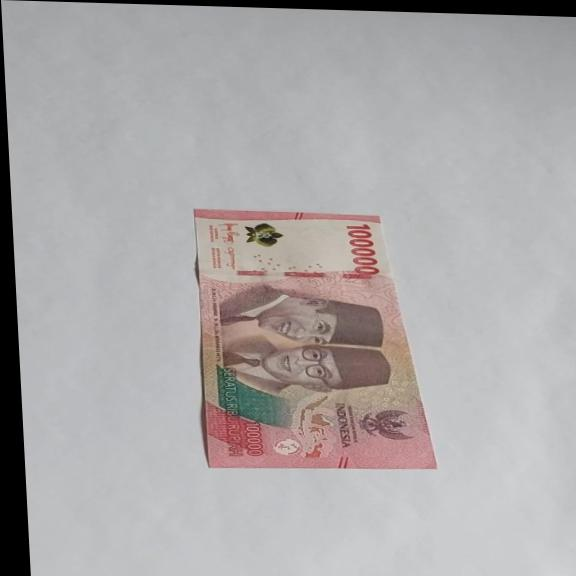Kertas: (190, 208, 439, 475), (345, 222, 381, 275)
